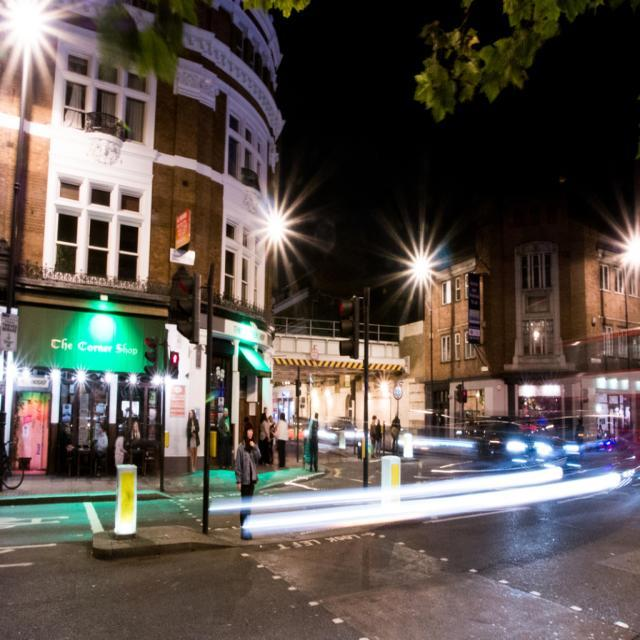traffic light: (175, 273, 199, 344), (338, 295, 358, 360), (143, 336, 158, 376), (170, 351, 179, 379)
